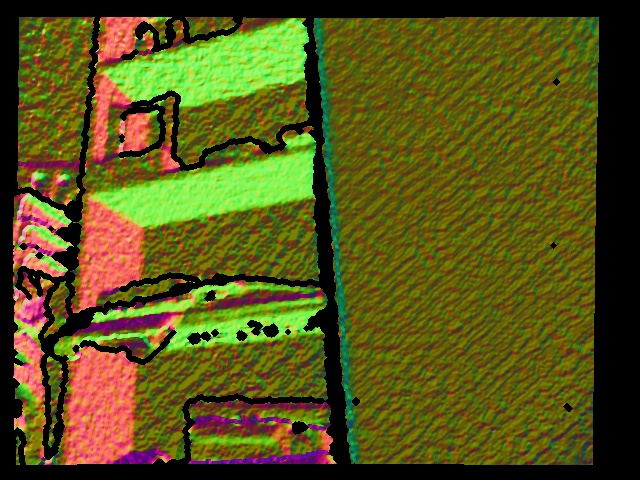station: (99, 91, 181, 188)
